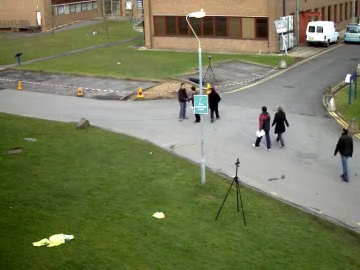person: (178, 80, 198, 119), (177, 80, 197, 119), (177, 81, 197, 119)
